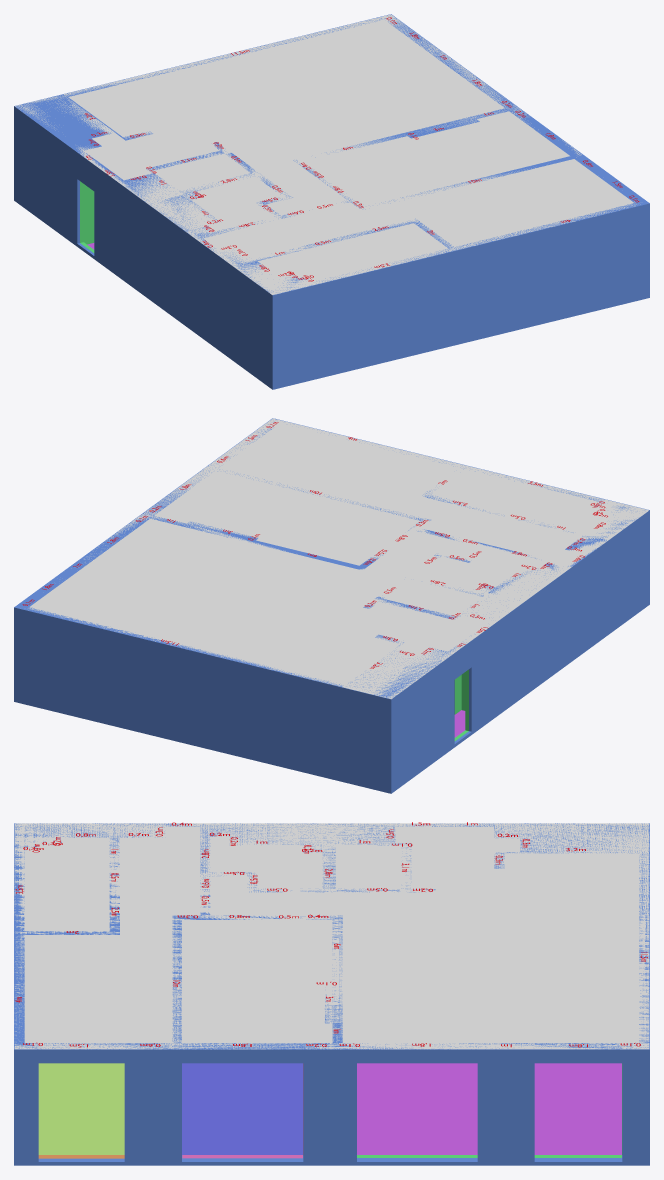
The model's file is квартира4.fbx.
The picture shows the model from 3 angles, top to bottom: view 1: azimuth 30°, elevation 25°; view 2: azimuth 150°, elevation 25°; view 3: azimuth 270°, elevation 25°; orthographic projection. The views are drawn at different scales.
Parts seen in each view (by area): view 1: Roof, Walls, ЗалОбои; view 2: Roof, Walls, ЗалОбои; view 3: Roof, Walls, ЗалПол, ДетскаяПол, СпальняПол, ЗалОбои, ДетскаяОбои.
Boxes of the visible parts, <box> form: Roof: <box>15,14,640,294</box>; Walls: <box>14,14,649,389</box>; ЗалОбои: <box>80,181,94,252</box>; Roof: <box>28,418,648,699</box>; Walls: <box>14,418,649,793</box>; ЗалОбои: <box>454,669,468,741</box>; Roof: <box>14,823,649,1049</box>; Walls: <box>14,823,649,1165</box>; ЗалПол: <box>357,1063,621,1154</box>; ДетскаяПол: <box>182,1063,302,1154</box>; СпальняПол: <box>38,1063,124,1154</box>; ЗалОбои: <box>357,1063,622,1157</box>; ДетскаяОбои: <box>182,1063,303,1158</box>.
Bounding box in the file's own units: 2512 × 604 × 2979.
